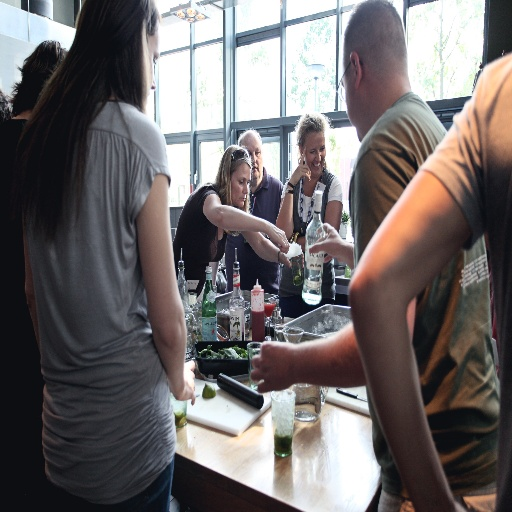hand: (252, 342, 293, 401), (306, 220, 343, 265), (167, 358, 195, 406), (289, 147, 311, 185), (269, 219, 287, 253), (278, 251, 304, 272)
